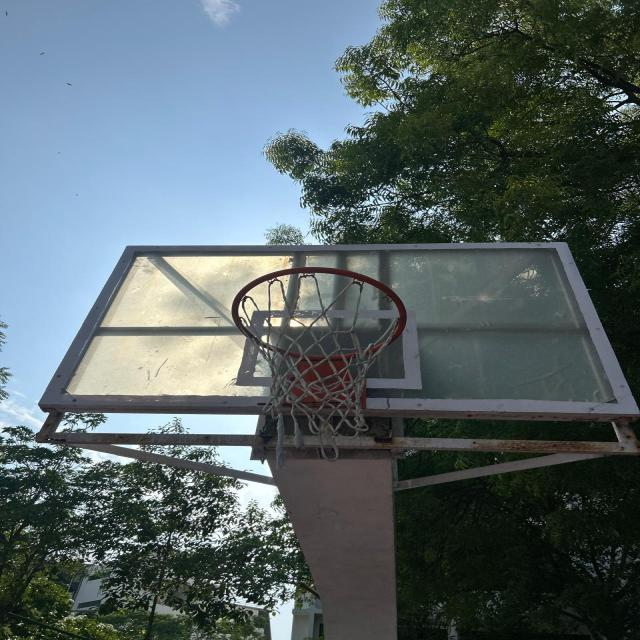hoop: (217, 270, 423, 453)
